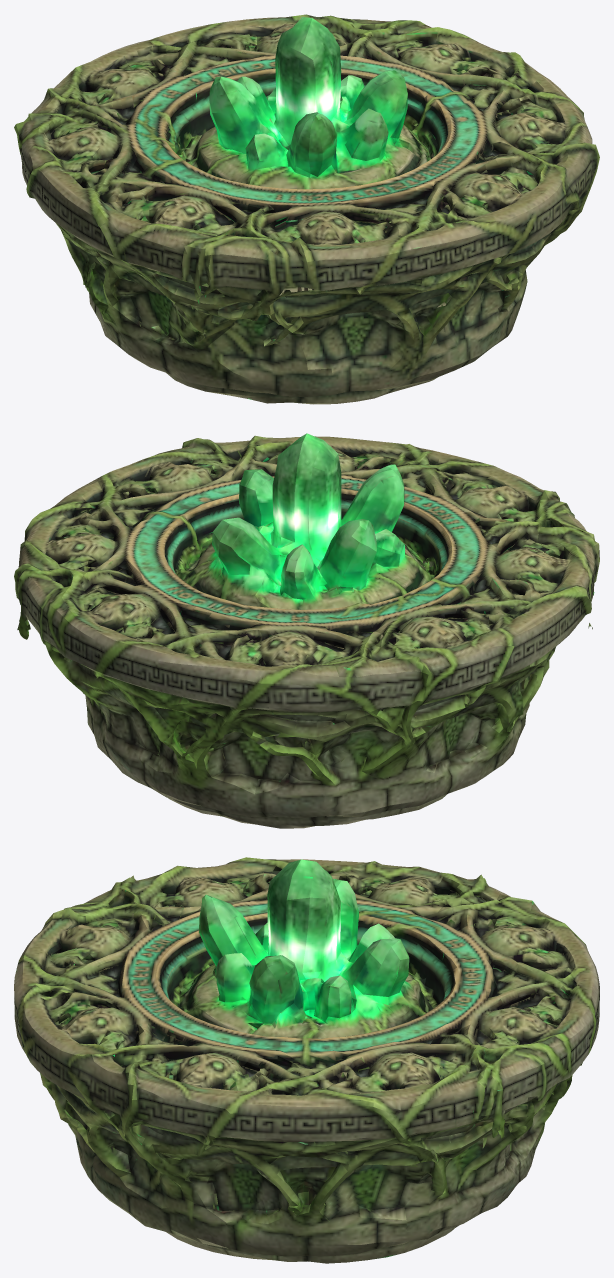
Rendered from bumper_lvl_1.glb.
3 renders of one model, top to bottom at view 1: azimuth 30°, elevation 25°; view 2: azimuth 150°, elevation 25°; view 3: azimuth 270°, elevation 25°, orthographic. The views are drawn at different scales.
Parts seen in each view (by area): view 1: Mesh0.001; view 2: Mesh0.001; view 3: Mesh0.001.
Part boxes in pixels (x1,y1,x2,y2): Mesh0.001: (14, 14, 599, 404); Mesh0.001: (14, 433, 599, 828); Mesh0.001: (14, 857, 599, 1263).
Size of the model in its own units: 0.108 by 0.0677 by 0.108.
1 material, 1 textured.
